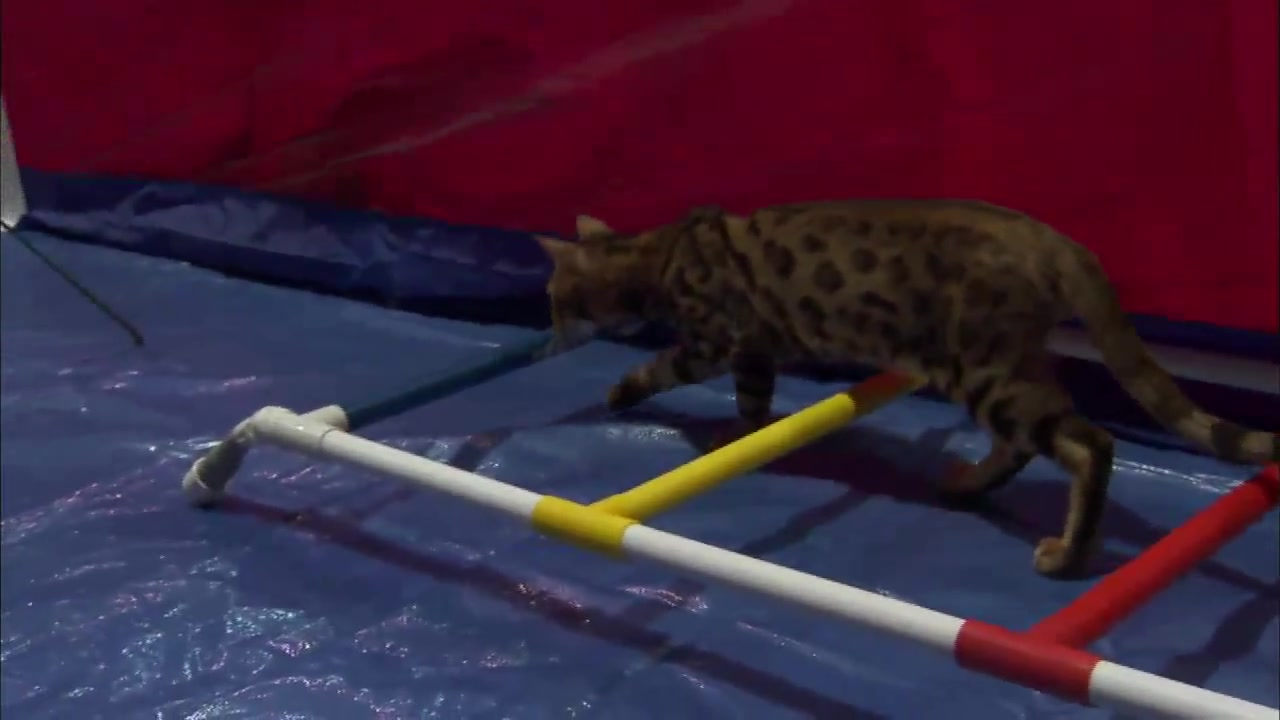cat: (535, 199, 1276, 579)
